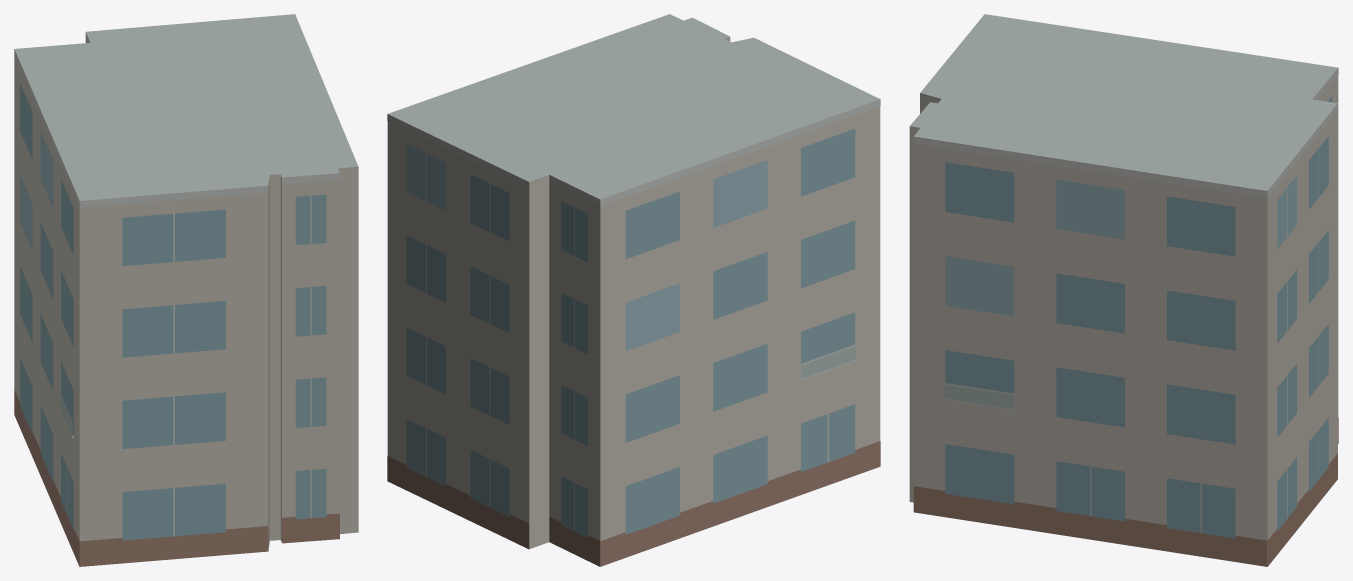
The model's file is survey-upis-32890141.glb.
3 renders of one model, left to right at view 1: azimuth 30°, elevation 25°; view 2: azimuth 150°, elevation 25°; view 3: azimuth 270°, elevation 25°, orthographic. The views are drawn at different scales.
Visible parts, largest first — view 1: survey-upis-32890141.tmp; view 2: survey-upis-32890141.tmp; view 3: survey-upis-32890141.tmp.
Boxes of the visible parts, x1,y1,x2,y2 form: survey-upis-32890141.tmp: (14,14,358,566); survey-upis-32890141.tmp: (387,14,880,566); survey-upis-32890141.tmp: (909,14,1338,566).
Bounding box in the file's own units: 12.94 × 12.8 × 13.24.
